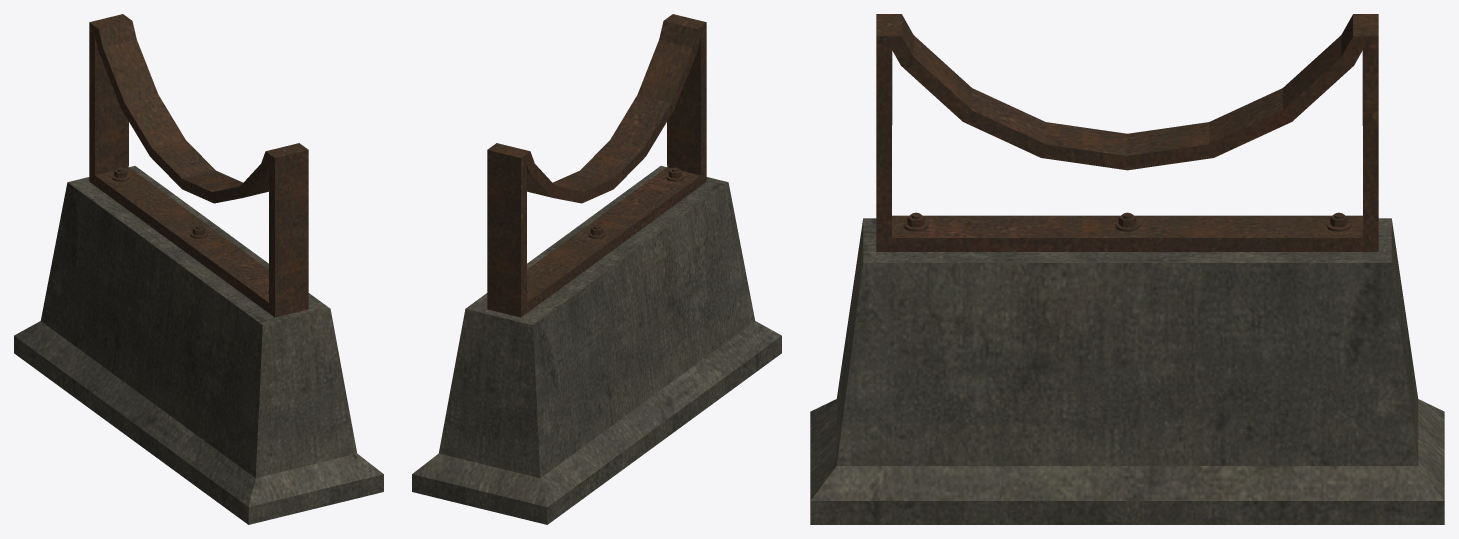
Rendered from stand_mx_2.obj.
The picture shows the model from 3 angles, left to right: view 1: azimuth 30°, elevation 25°; view 2: azimuth 150°, elevation 25°; view 3: azimuth 270°, elevation 25°; orthographic projection. The views are drawn at different scales.
Parts seen in each view (by area): view 1: stand_mx_2; view 2: stand_mx_2; view 3: stand_mx_2.
Boxes of the visible parts, box(x1,y1,x2,y2) form: stand_mx_2: box(14, 14, 383, 524); stand_mx_2: box(412, 14, 781, 524); stand_mx_2: box(810, 14, 1444, 524).
Bounding box in the file's own units: 0.8 × 1.9 × 2.4.
